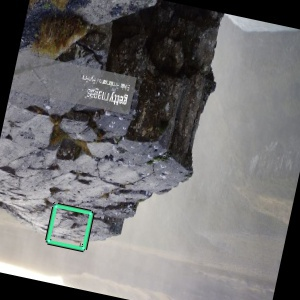square: (45, 202, 95, 253)
